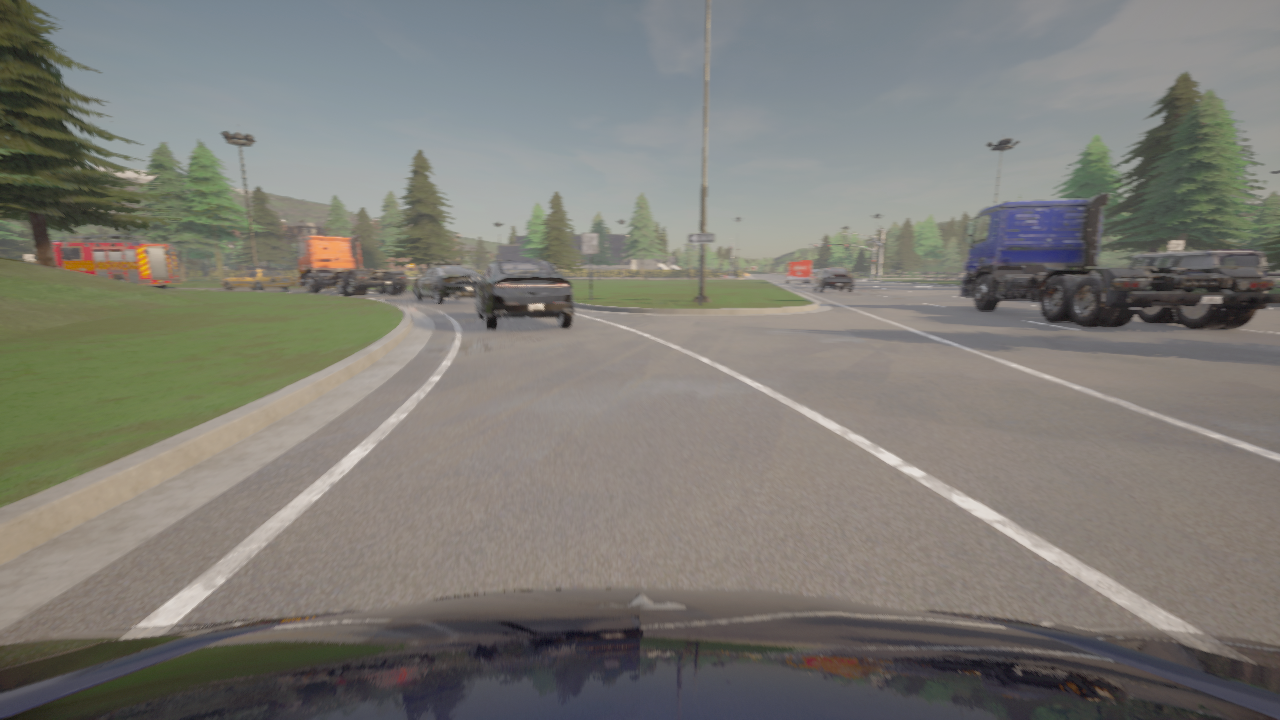cyclist: (0, 588, 1279, 719), (960, 193, 1279, 329), (32, 235, 181, 289), (470, 260, 573, 330), (292, 235, 410, 296), (1127, 250, 1267, 279), (413, 263, 482, 304), (220, 268, 296, 291), (813, 268, 853, 292), (784, 261, 811, 284)
